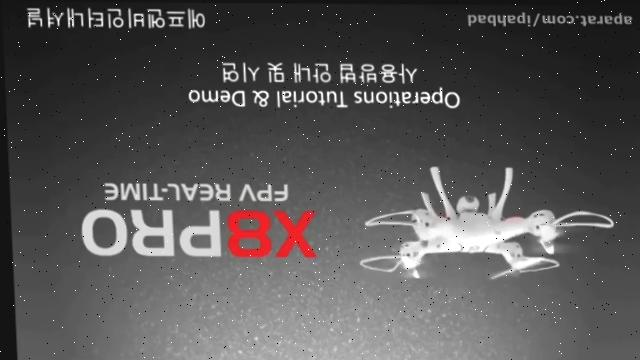drone: (346, 160, 617, 282)
